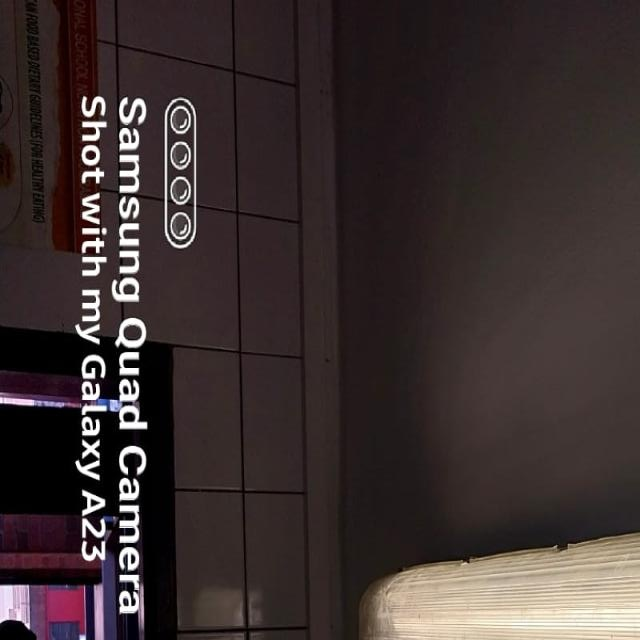fluorescent tube: (300, 437, 640, 640)
